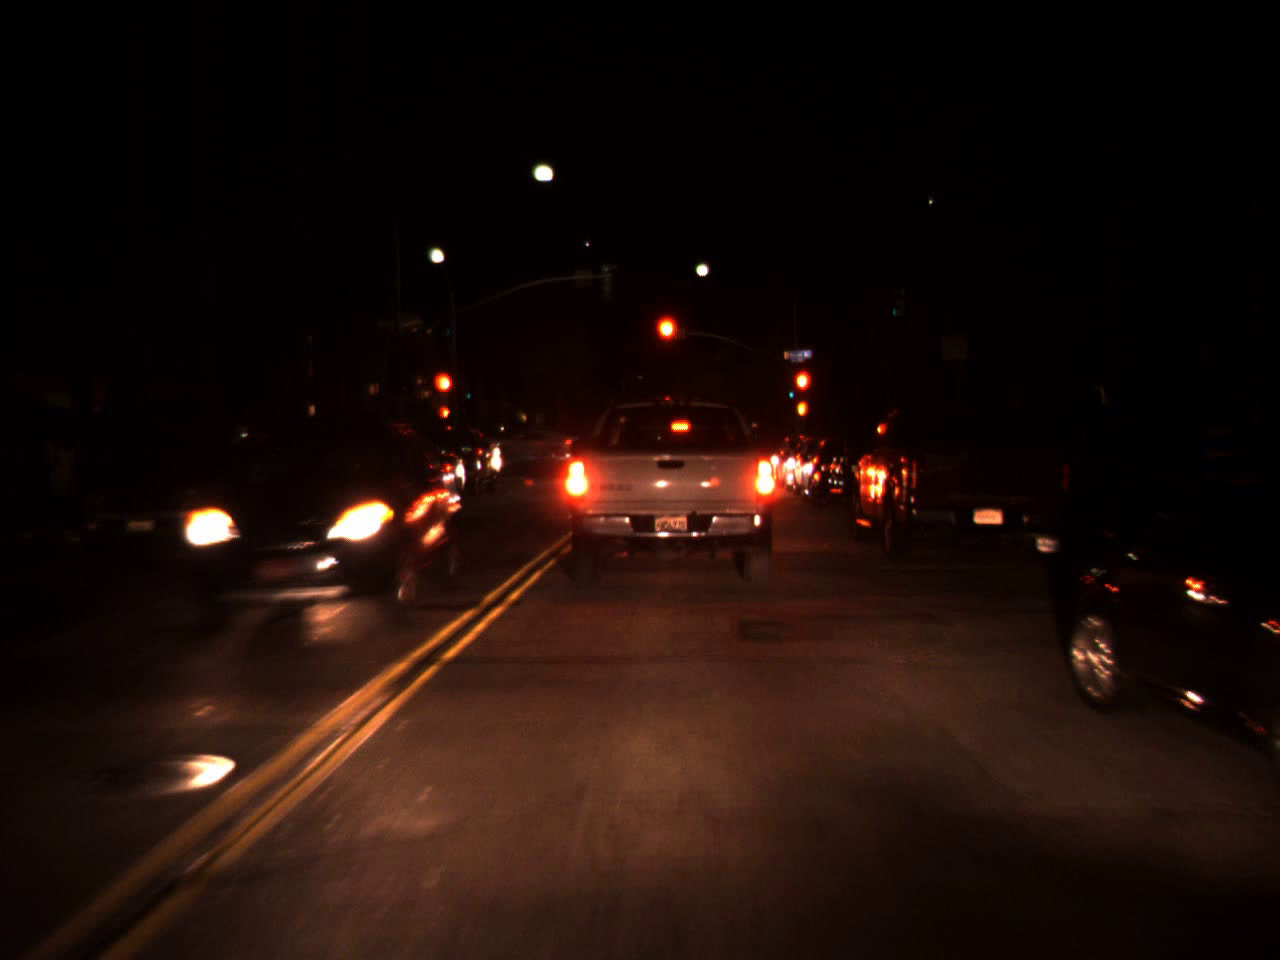stop: (653, 312, 680, 368), (432, 369, 456, 417), (792, 367, 813, 415)
